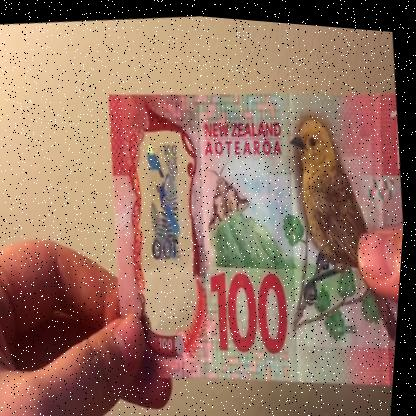100B: (132, 131, 207, 322)
